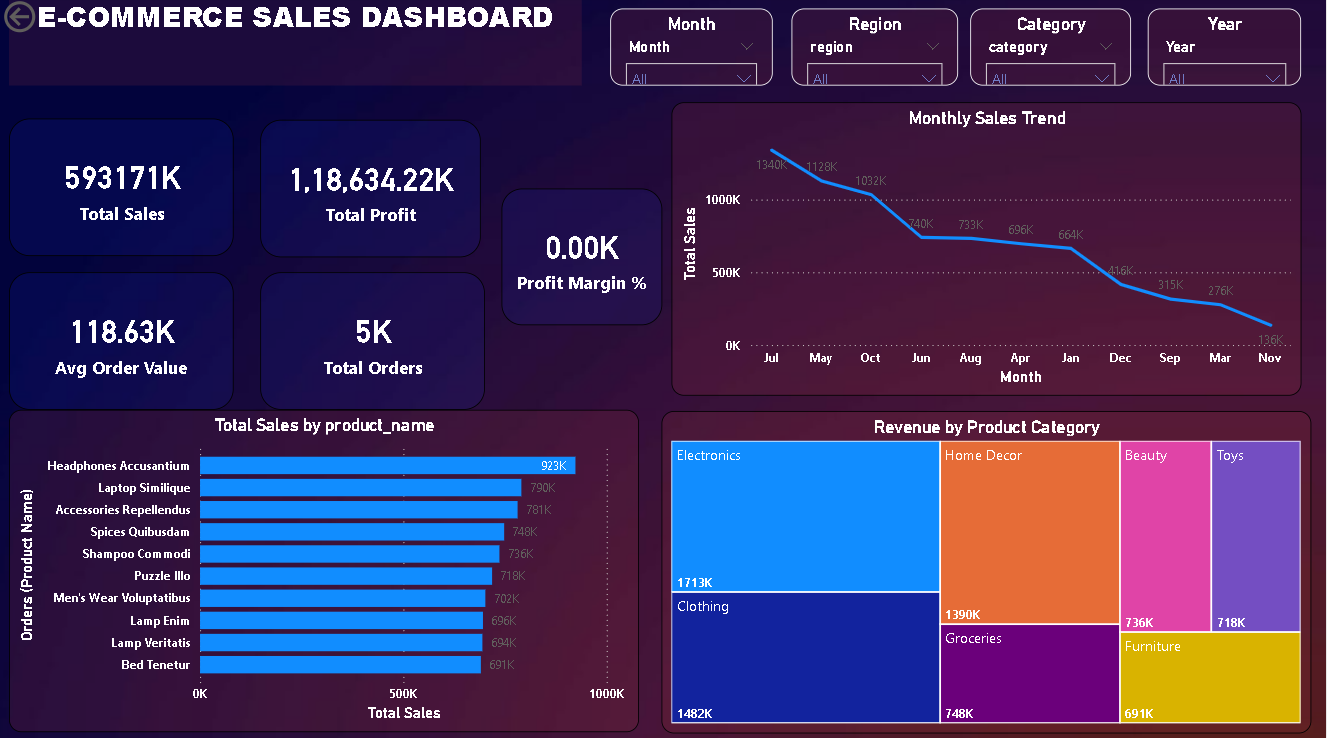

What the dashboard file says about the page in this screenshot:
{"tool":"powerbi","page":{"name":"Page 1","canvas":[1280,720],"ordinal":0},"visuals":[{"type":"textbox","title":"E-COMMERCE SALES DASHBOARD","box":[9.6,0,553,86.4],"z":0},{"type":"card","fields":{"Values":["Orders.Total Sales"]},"box":[9.6,118,216.8,133.1],"z":1000},{"type":"card","fields":{"Values":["Orders.Profit Margin %"]},"box":[484.4,185.2,155.1,131.7],"z":2000},{"type":"card","fields":{"Values":["Orders.Total Profit"]},"box":[252.5,119.4,212.7,133.1],"z":3000},{"type":"card","fields":{"Values":["Orders.Avg Order Value"]},"box":[9.6,266.2,216.8,133.1],"z":4000},{"type":"card","fields":{"Values":["Orders.Total Orders"]},"box":[252.5,266.2,216.8,133.1],"z":5000},{"type":"barChart","fields":{"Category":["Orders.product_name"],"Y":["Orders.Total Sales"]},"box":[9.6,399.3,607.9,311.5],"z":6000},{"type":"actionButton","box":[0,0,100,40],"z":7000},{"type":"treemap","title":"Revenue by Product Category","fields":{"Group":["Orders.category"],"Values":["Orders.Total Sales"]},"box":[639.5,400.7,627.1,311.5],"z":8000},{"type":"lineChart","title":"Monthly Sales Trend","fields":{"Category":["DateTable.Month"],"Y":["Orders.Total Sales"]},"box":[649.1,102.5,608,283.5],"z":9000},{"type":"slicer","title":"Year","fields":{"Values":["DateTable.Year"]},"box":[1108.8,12.3,148.2,74.1],"z":10000},{"type":"slicer","title":"Category","fields":{"Values":["Orders.category"]},"box":[937.2,12.3,155.1,74.1],"z":10001},{"type":"slicer","title":"Region","fields":{"Values":["Orders.region"]},"box":[764.3,12.3,160.5,74.1],"z":10002},{"type":"slicer","title":"Month","fields":{"Values":["Orders.month"]},"box":[590.1,12.3,156.4,74.1],"z":10003}]}

Visuals, with their boxes in screenshot pixels (x1, y1, x2, y2), scaled from the page's 1280x720 canvas onto the 1327x738 screenshot:
"E-COMMERCE SALES DASHBOARD" textbox: 10 0 583 89
card - Orders.Total Sales: 10 121 235 257
card - Orders.Profit Margin %: 502 190 663 325
card - Orders.Total Profit: 262 122 482 259
card - Orders.Avg Order Value: 10 273 235 409
card - Orders.Total Orders: 262 273 487 409
barChart - Orders.product_name x Orders.Total Sales: 10 409 640 729
actionButton: 0 0 104 41
"Revenue by Product Category" treemap: 663 411 1313 730
"Monthly Sales Trend" lineChart: 673 105 1303 396
"Year" slicer: 1150 13 1303 89
"Category" slicer: 972 13 1132 89
"Region" slicer: 792 13 959 89
"Month" slicer: 612 13 774 89
